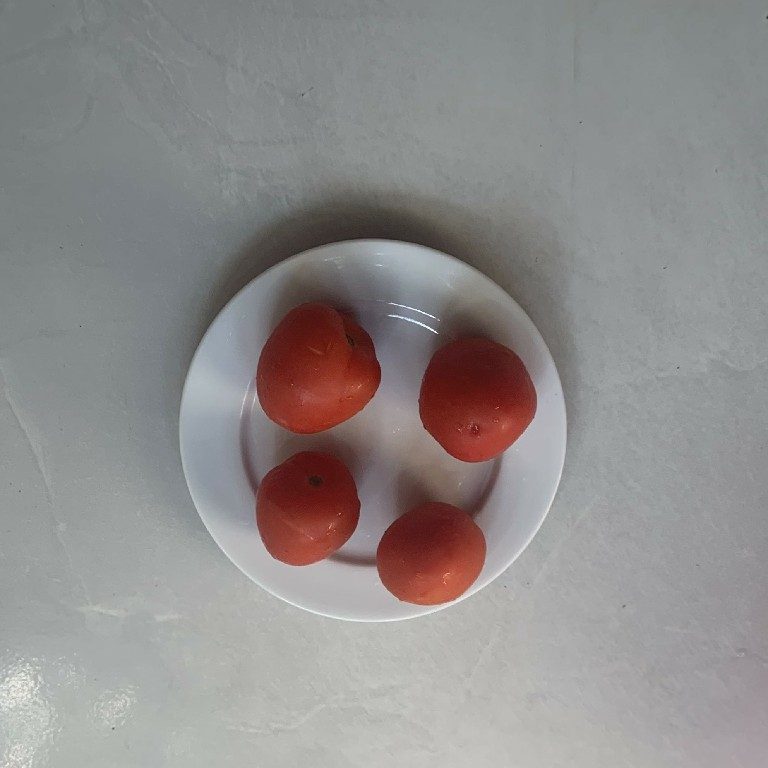OK: (251, 301, 381, 434), (419, 327, 539, 465), (251, 448, 364, 568), (376, 494, 477, 603)
